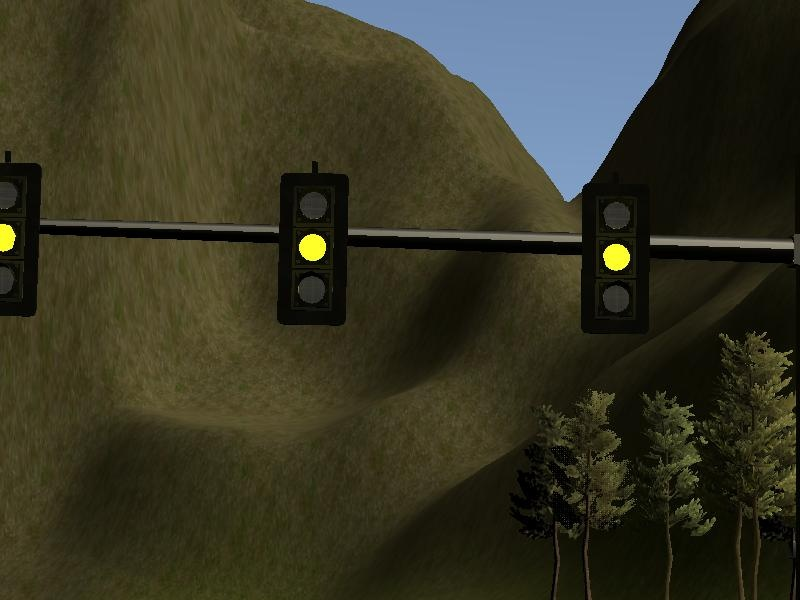YELLOW: (274, 171, 351, 328), (579, 182, 656, 339)
